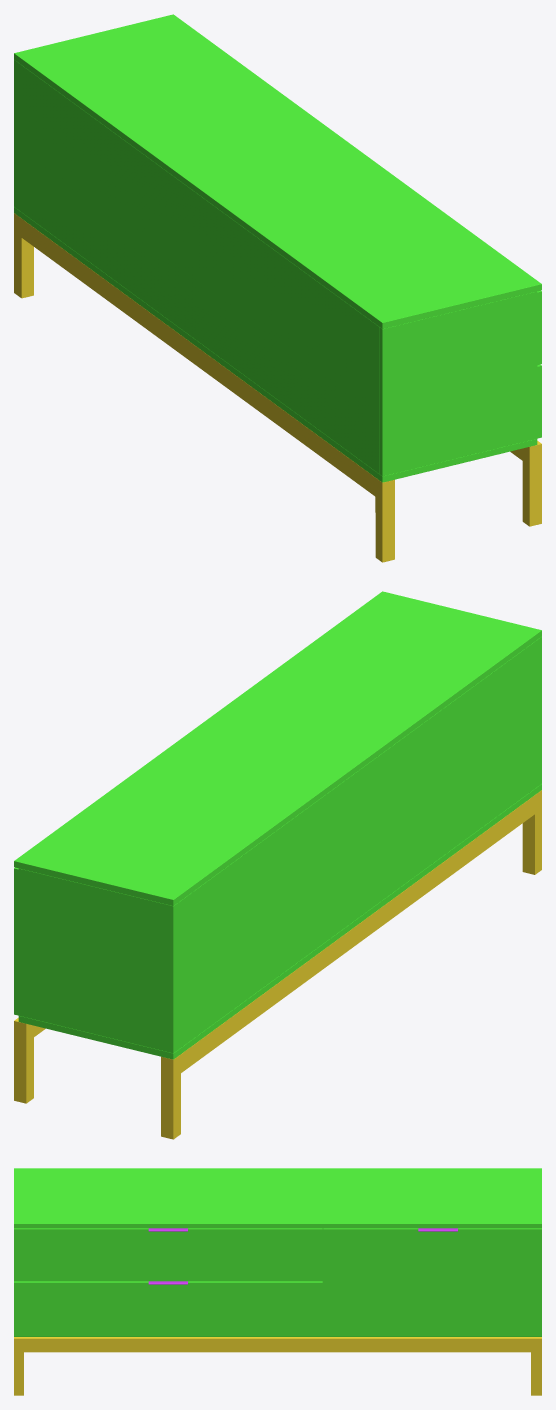
File: STRG_MinimalTable.FBX
3 views of the same model, one above another, from view 1: azimuth 30°, elevation 25°; view 2: azimuth 150°, elevation 25°; view 3: azimuth 270°, elevation 25° (orthographic). The views are drawn at different scales.
Visible parts, largest first — view 1: STRG_MinimalTable; view 2: STRG_MinimalTable; view 3: STRG_MinimalTable.
Part boxes in pixels (bbox=[...]): STRG_MinimalTable: bbox=[14, 14, 541, 562]; STRG_MinimalTable: bbox=[14, 591, 541, 1139]; STRG_MinimalTable: bbox=[14, 1168, 541, 1395].
Bounding box in the file's own units: 51.37 × 71.79 × 200.
